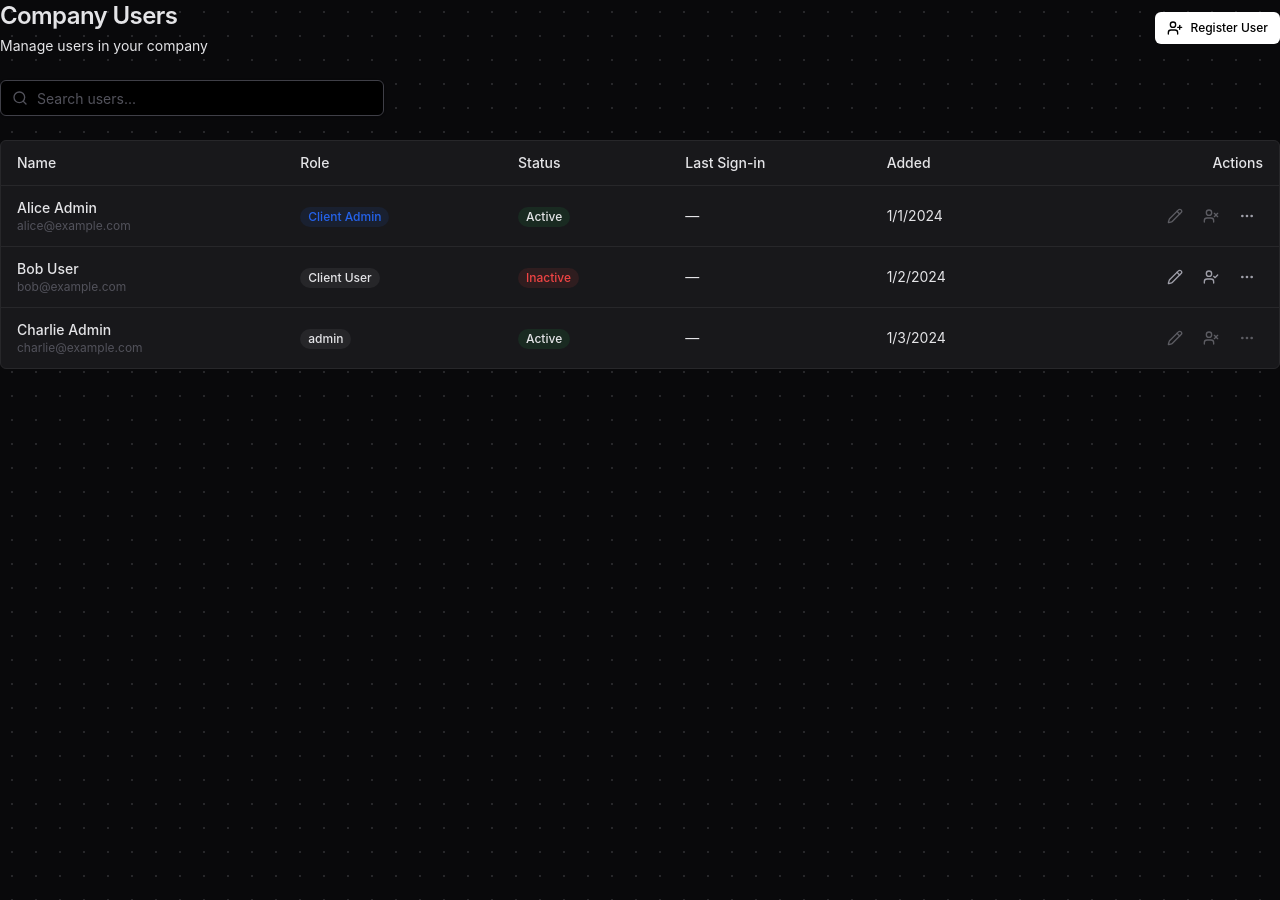
Scenario: T-M3-4.C.3 — Register Company User Dialog › blocks submit at slot capacity
The width and height of the screenshot is (1280, 900).
Click the button "Register User".
click(1217, 28)  # box [1154,12,1279,44]
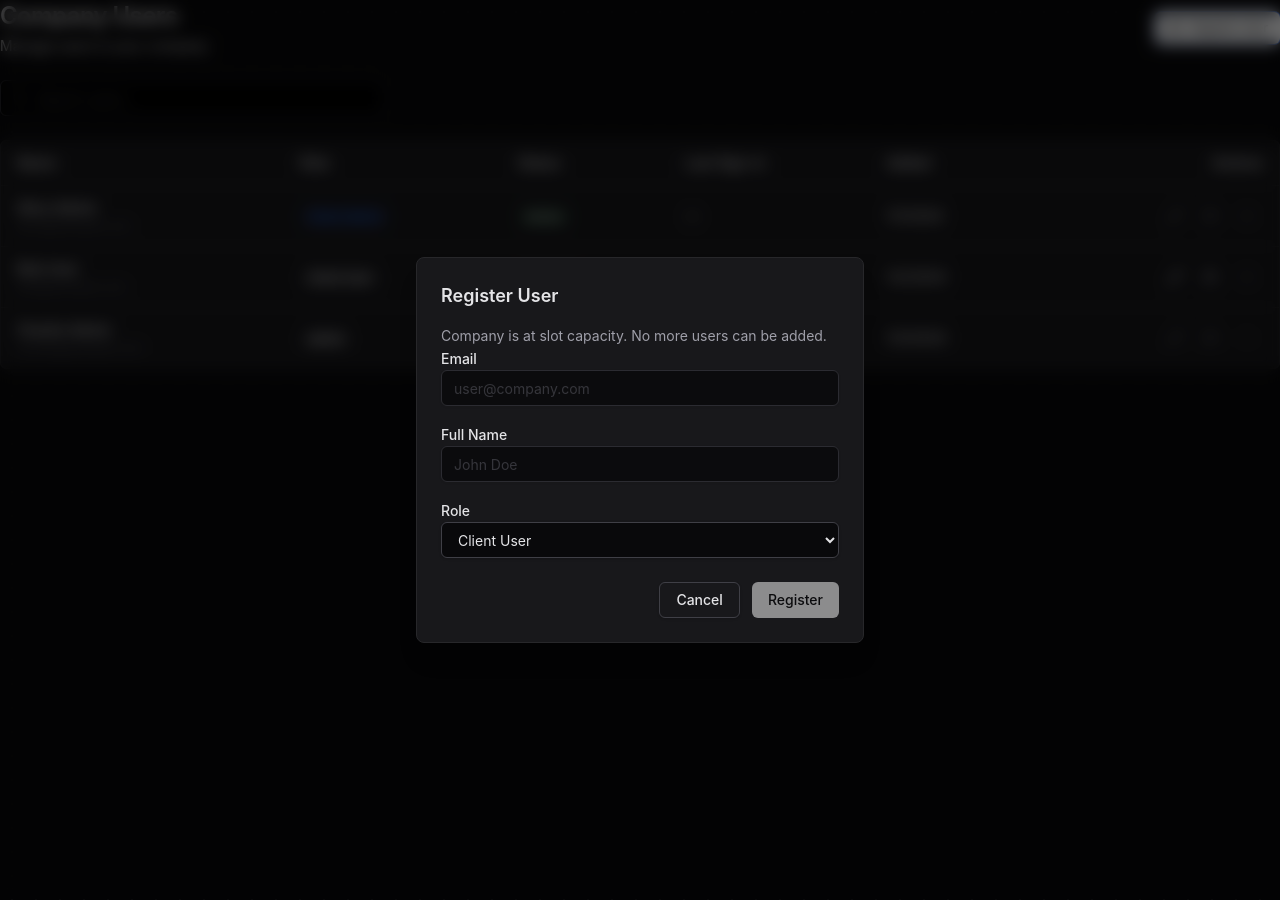
Expected: the text "Company is at slot capacity. No more users can be added." is shown, [441,326,839,346]
Expected: the button "Register" is disabled, [752,582,839,618]
